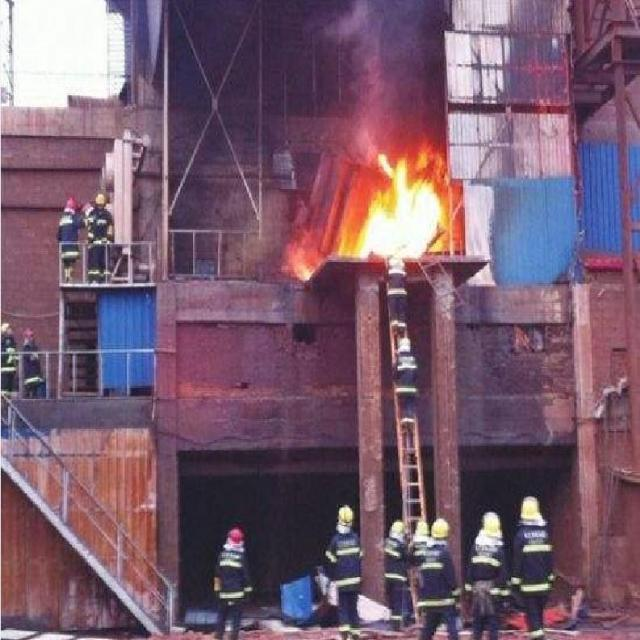Fire: (348, 151, 456, 256)
Smoke: (322, 0, 450, 158)
